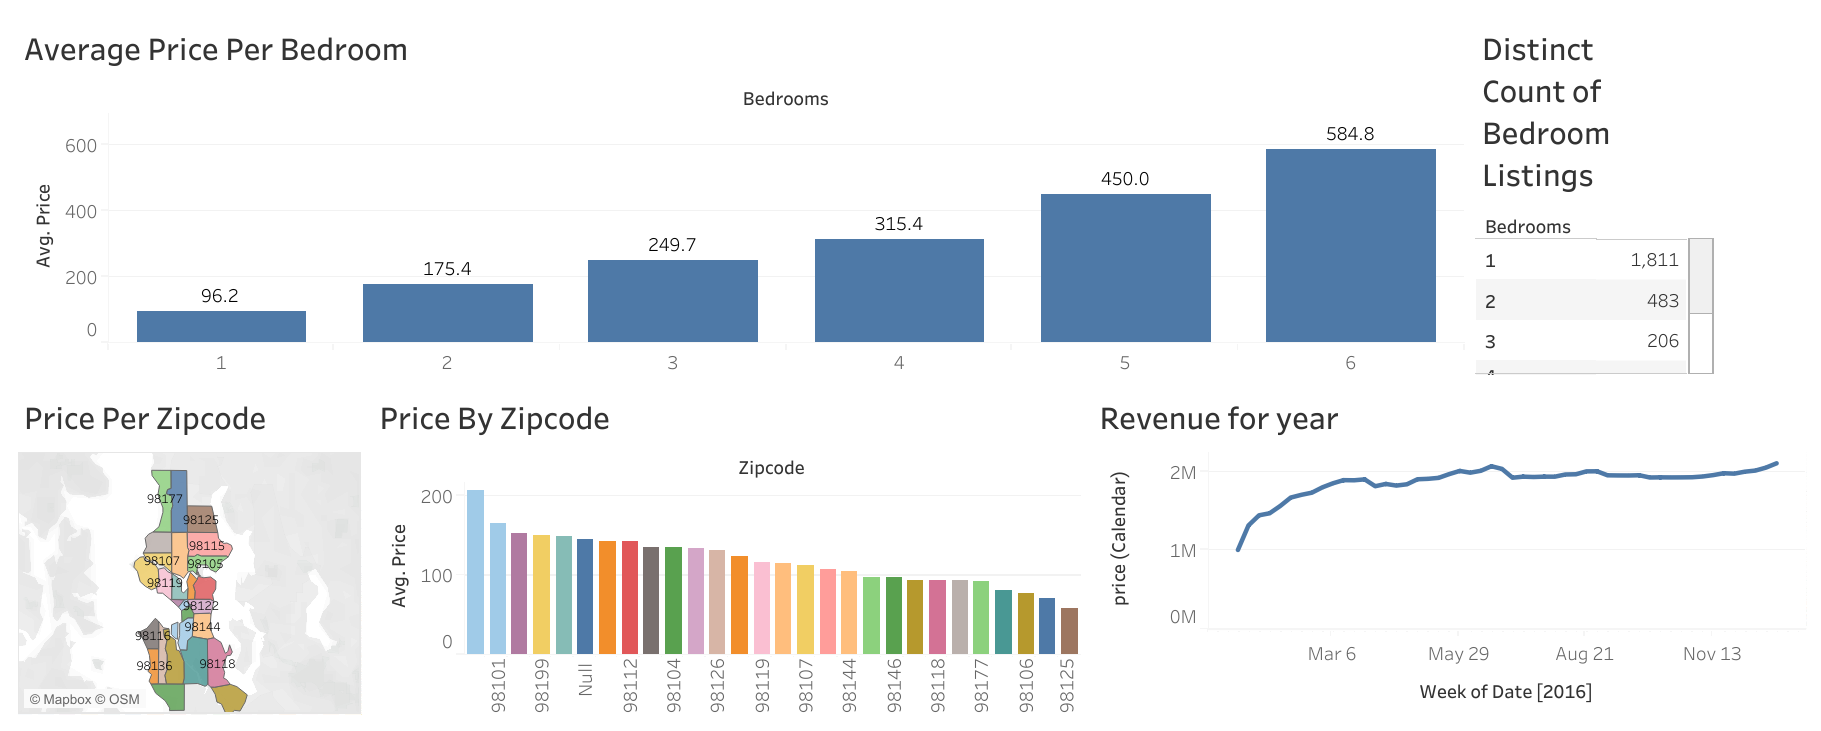

The page's visual inventory and layout, read from the dashboard file:
{"tool":"tableau","page":{"name":"Dashboard 1","canvas":[1000,1000],"units":"permille","ordinal":0},"visuals":[{"type":"worksheet","title":"Sheet 4","mark":"Automatic","rows":["price"],"cols":["bedrooms"],"box":[5,10.7,803,509.4]},{"type":"worksheet","title":"Sheet 5","mark":"Automatic","rows":["bedrooms"],"box":[808,10.7,187,509.4]},{"type":"worksheet","title":"Sheet 2","mark":"Multipolygon","box":[5,520.1,195.5,469.2]},{"type":"worksheet","title":"Sheet 1","mark":"Automatic","rows":["price"],"cols":["zipcode"],"box":[200.5,520.1,396.1,469.2]},{"type":"worksheet","title":"Sheet 3","mark":"Automatic","rows":["price (Calendar)"],"cols":["date"],"box":[596.6,520.1,398.4,469.2]}]}

Visuals, with their boxes on the dashboard's canvas, which has no fixed pixel size, in thousandths of its width and height (x1, y1, x2, y2). These are canvas units, not pixel positions in the 1821x731 screenshot, which may show the page scaled, cropped or inside an application window:
"Sheet 4" worksheet: x1=5 y1=11 x2=808 y2=520
"Sheet 5" worksheet: x1=808 y1=11 x2=995 y2=520
"Sheet 2" worksheet (Multipolygon marks): x1=5 y1=520 x2=200 y2=989
"Sheet 1" worksheet: x1=200 y1=520 x2=597 y2=989
"Sheet 3" worksheet: x1=597 y1=520 x2=995 y2=989
